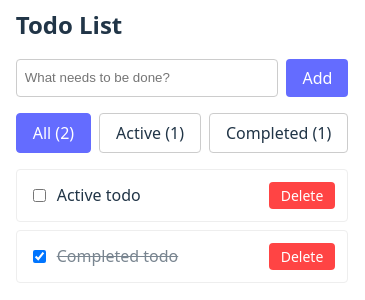
Test: TodoList Component › shows only completed todos when "Completed" filter is selected
The image size is (365, 300).
Click Completed filter
What coordinates should you click on to do the following:
click the button with test id "filter-completed"
I would click on:
 (279, 133)
Its box is [209,113,348,153].
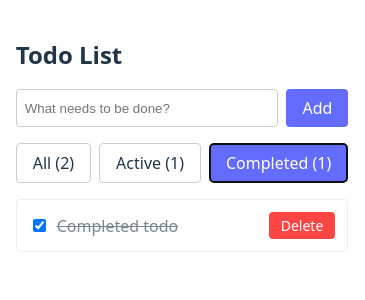
Expected: the text "Completed todo" is shown, [57,215,178,237]
Now the text "Active todo" is gone
